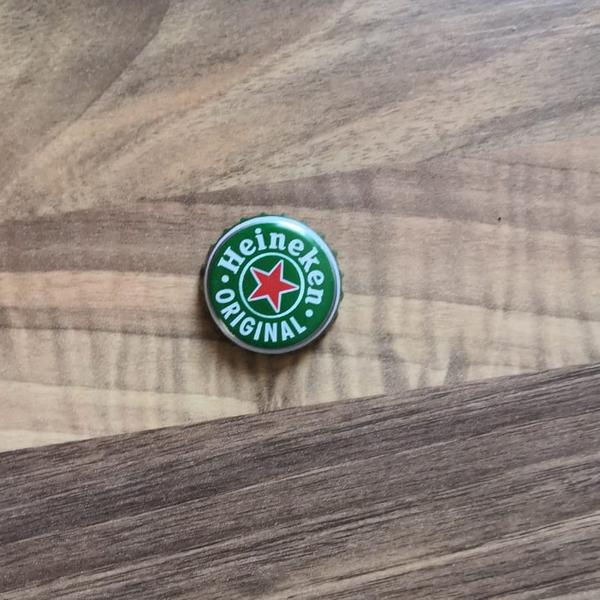heineken: (196, 209, 345, 362)
